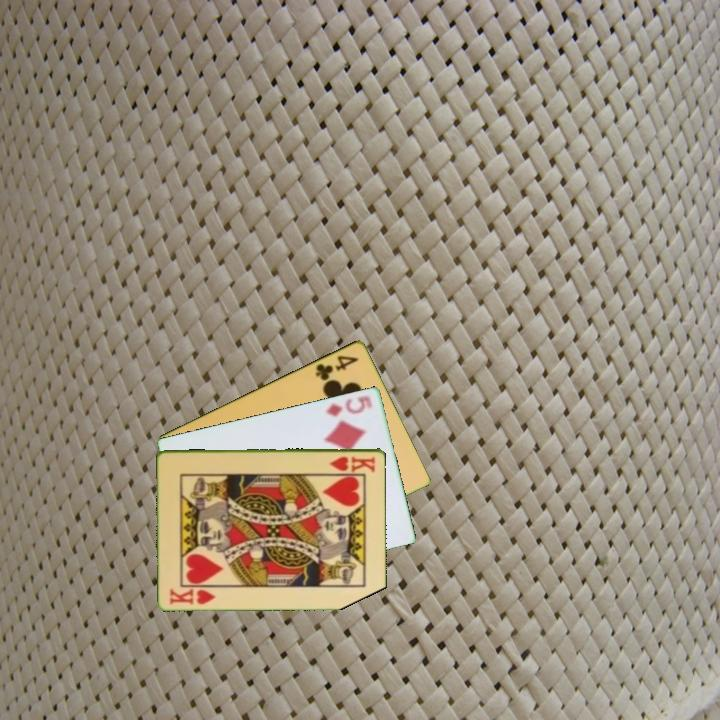4c: (312, 351, 362, 383)
5d: (322, 394, 376, 419)
Kh: (326, 452, 378, 474), (166, 585, 218, 607)
